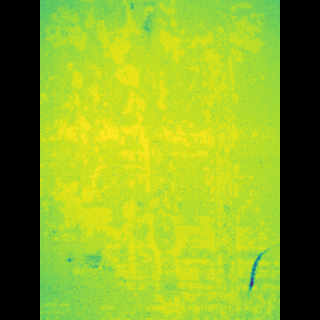Loch: (71, 0, 189, 320), (193, 18, 216, 320), (217, 3, 247, 233)
